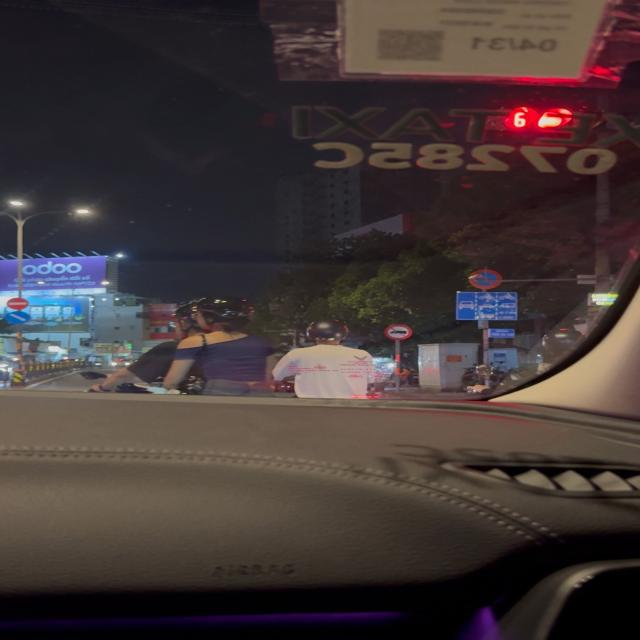Bien bao cam xe so-mi ro-mooc: (383, 323, 415, 341)
